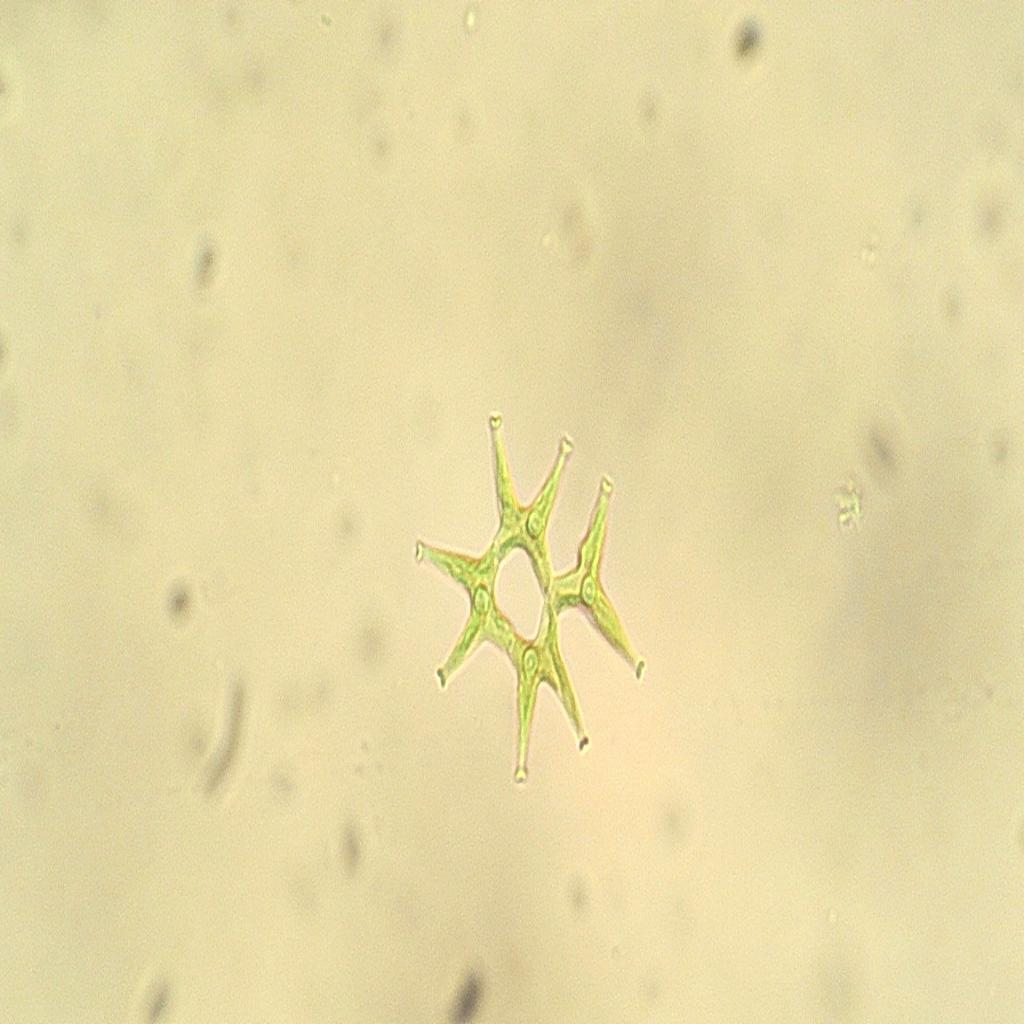Pediastrum_75FI: (402, 402, 660, 800)
